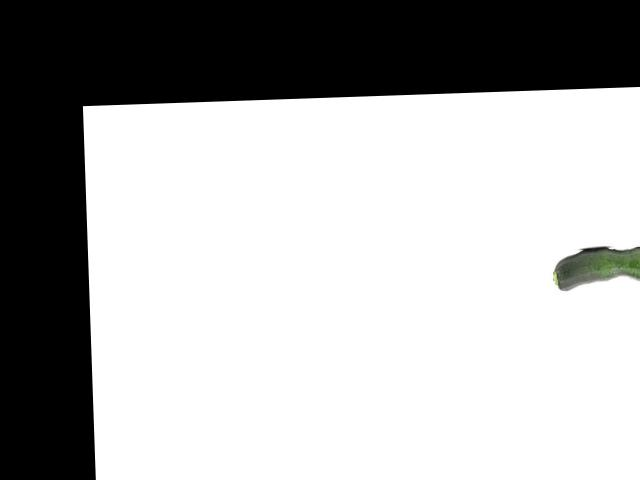cucumber: (551, 245, 640, 291)
